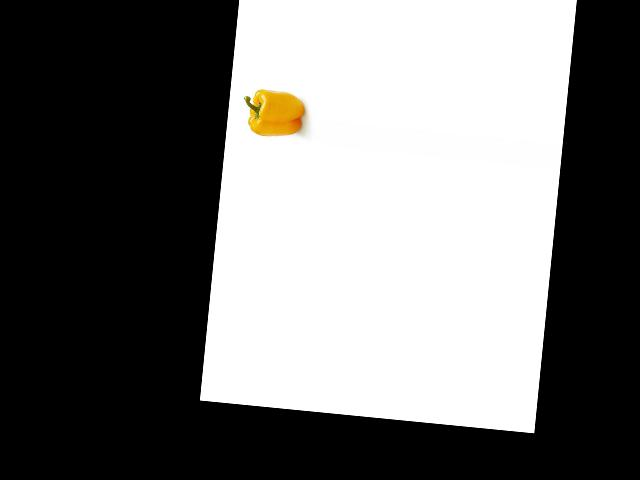bell_pepper: (238, 81, 307, 140)
